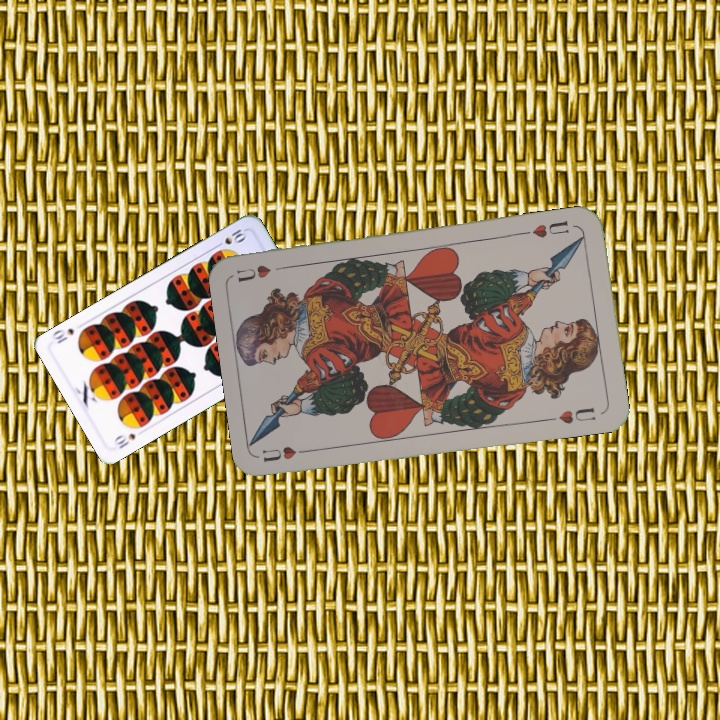HU: (258, 442, 316, 464), (528, 217, 571, 240)
S10: (211, 225, 249, 251), (110, 429, 138, 451)
